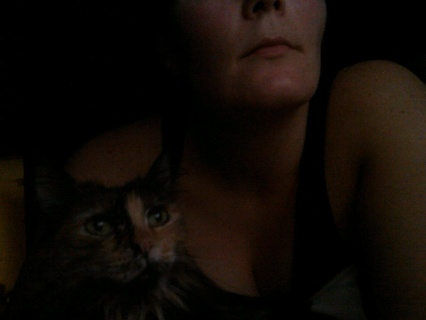Cat: (0, 148, 199, 319)
